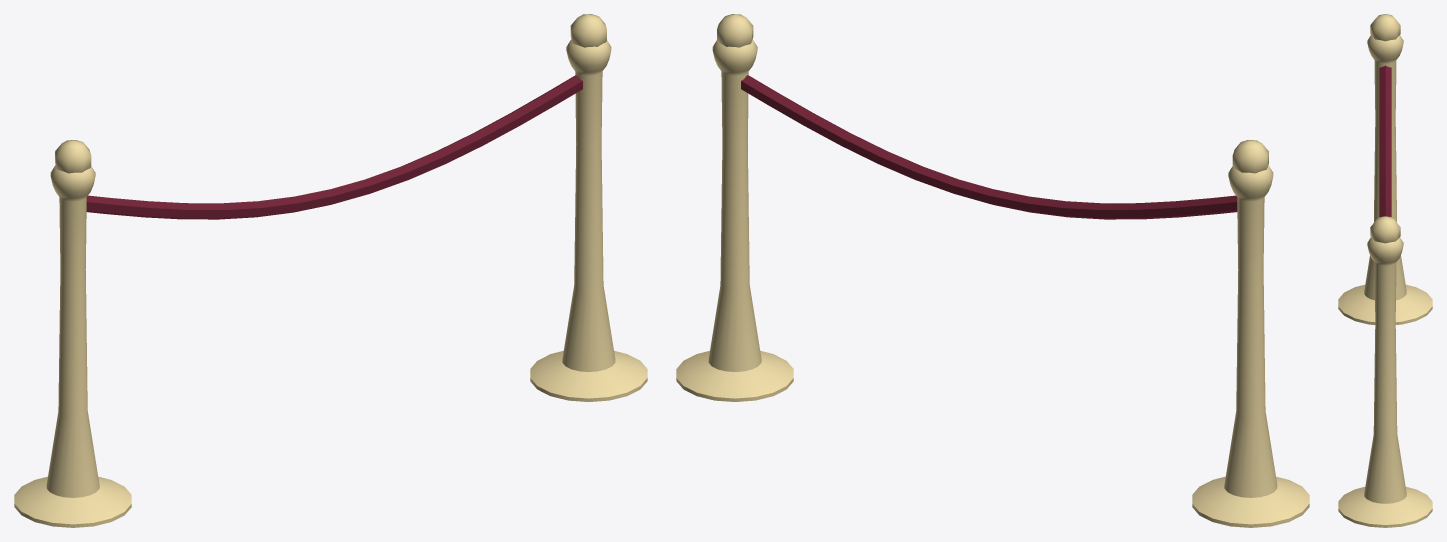
The model's file is stanchion_rope_pair.glb.
The picture shows the model from 3 angles, left to right: view 1: azimuth 30°, elevation 25°; view 2: azimuth 150°, elevation 25°; view 3: azimuth 270°, elevation 25°; orthographic projection. The views are drawn at different scales.
Visible parts, largest first — view 1: stanchion_rope_pair; view 2: stanchion_rope_pair; view 3: stanchion_rope_pair.
Part boxes in pixels (<box>): stanchion_rope_pair: <box>14,14,647,527</box>; stanchion_rope_pair: <box>676,14,1309,527</box>; stanchion_rope_pair: <box>1338,14,1432,527</box>.
Size of the model in its own units: 1.8 by 1.01 by 0.2954.
